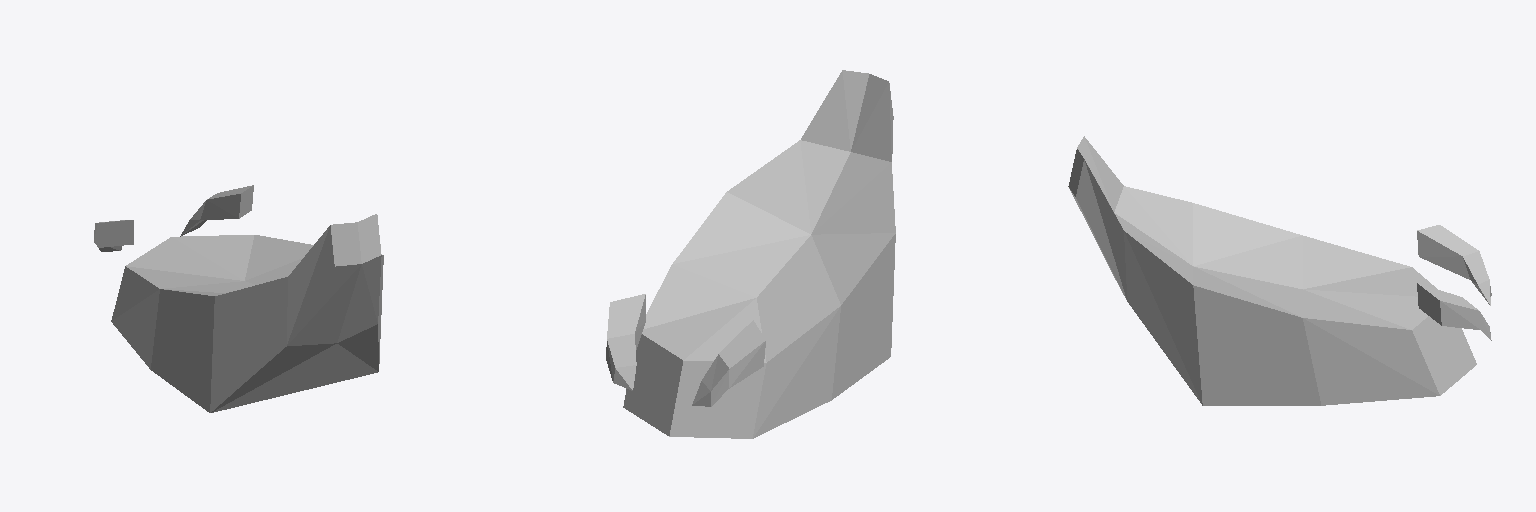
Rendered from scorpion.obj.
3 views of the same model, side by side, from view 1: azimuth 30°, elevation 25°; view 2: azimuth 150°, elevation 25°; view 3: azimuth 270°, elevation 25° (orthographic).
Visible parts, largest first — view 1: Cube; view 2: Cube; view 3: Cube.
Boxes of the visible parts, <box> form: Cube: <box>94,185,383,412</box>; Cube: <box>606,70,895,438</box>; Cube: <box>1068,136,1491,405</box>.
Bounding box in the file's own units: 1.43 × 1.76 × 3.11.